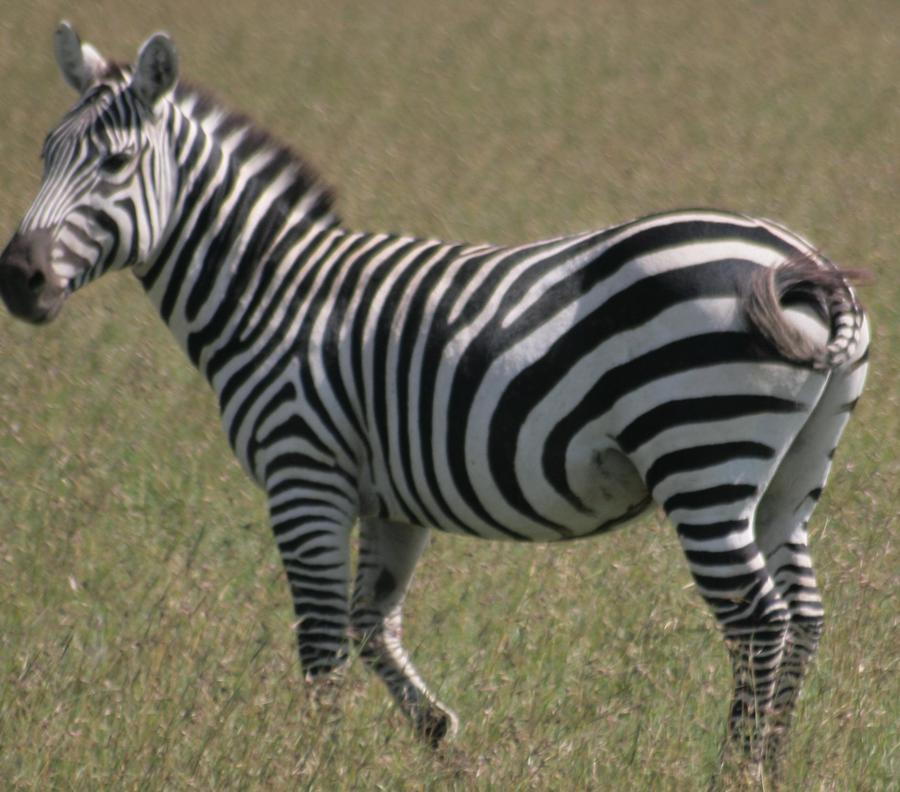zebra_plains: (218, 225, 797, 560)
